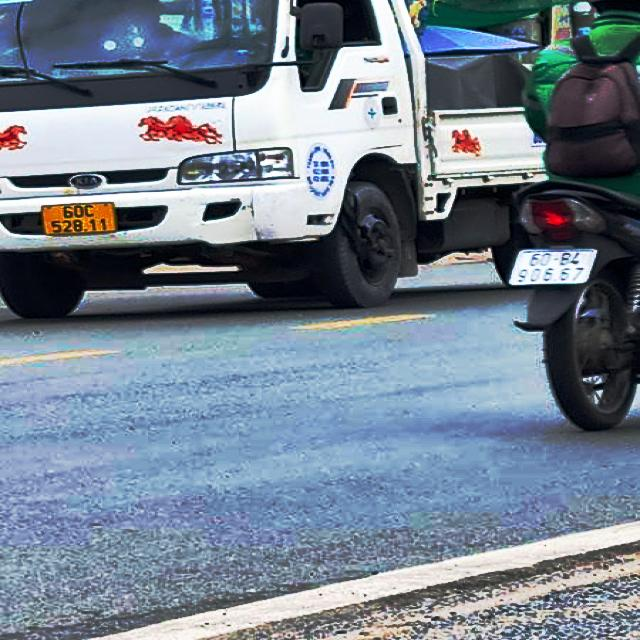license_plate: (505, 249, 600, 288), (40, 199, 120, 239)
